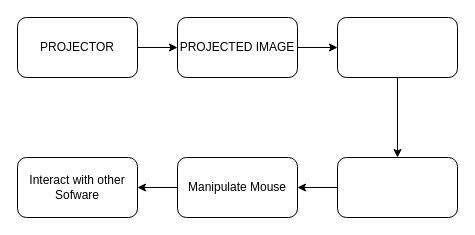
Some shapes in this 475 by 235 pixel diagram are drawn without their labels. Each missing label, with the centre of its shape:
Detect Interaction (Touch, Gestures): [397,187]
INPUT DEVICE (CAMERA or LASER GRID or KINECT): [397,47]
